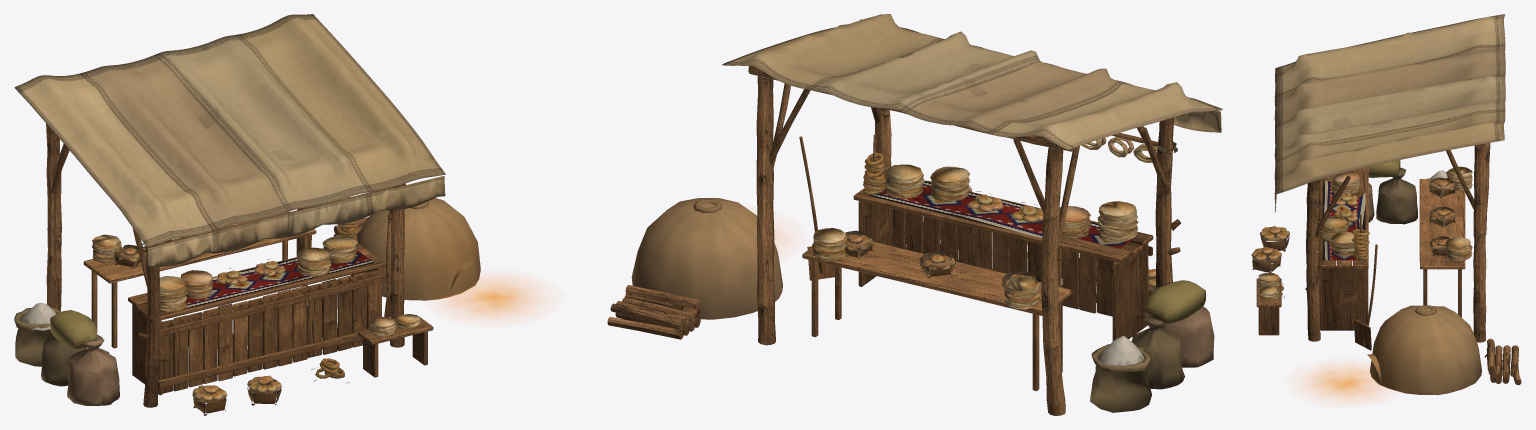
File: village-kiosk-2-v5-lite.glb
3 renders of one model, left to right at view 1: azimuth 30°, elevation 25°; view 2: azimuth 150°, elevation 25°; view 3: azimuth 270°, elevation 25°, orthographic. The views are drawn at different scales.
Visible parts, largest first — view 1: K2_Cloth, K2_Wood, K2_Props, K2_Bark, K2_Sack, K2_Glow; view 2: K2_Cloth, K2_Props, K2_Wood, K2_Bark, K2_Sack; view 3: K2_Cloth, K2_Props, K2_Wood, K2_Bark, K2_Sack, K2_Glow.
Part boxes in pixels (x1,y1,x2,y2): K2_Cloth: (14, 14, 445, 266); K2_Wood: (83, 187, 433, 395); K2_Props: (20, 198, 480, 415); K2_Bark: (46, 123, 405, 407); K2_Sack: (14, 307, 119, 405); K2_Glow: (444, 278, 541, 318); K2_Cloth: (722, 14, 1222, 149); K2_Props: (631, 71, 1177, 365); K2_Wood: (799, 133, 1173, 391); K2_Bark: (607, 66, 1184, 415); K2_Sack: (1090, 280, 1214, 412); K2_Cloth: (1274, 14, 1505, 211); K2_Props: (1251, 166, 1481, 395); K2_Wood: (1256, 167, 1465, 350); K2_Bark: (1305, 143, 1521, 385); K2_Sack: (1352, 160, 1429, 224); K2_Glow: (1305, 364, 1385, 400).
Size of the model in its own units: 6.02 by 2.9 by 3.27.
Materials: 7 (7 with a texture image).
